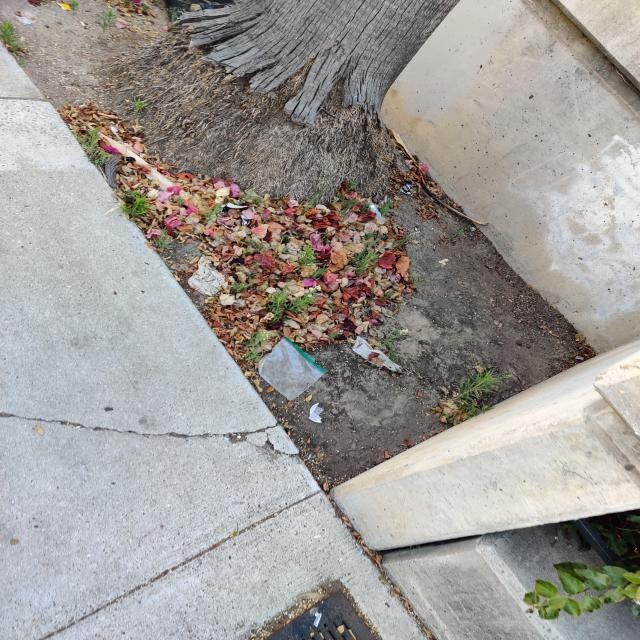litter: (248, 327, 340, 411)
